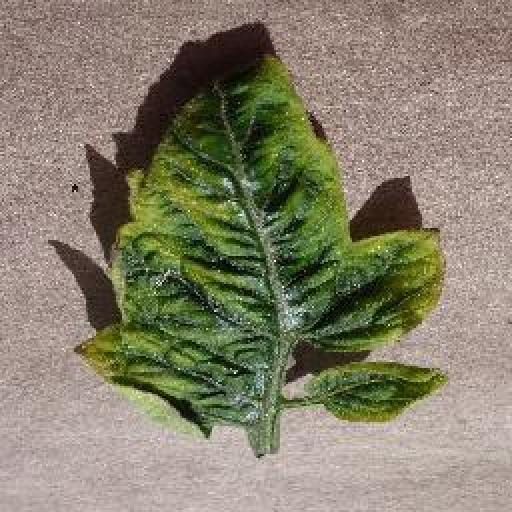Yellow Leaf Curl Virus: (74, 48, 450, 439)
